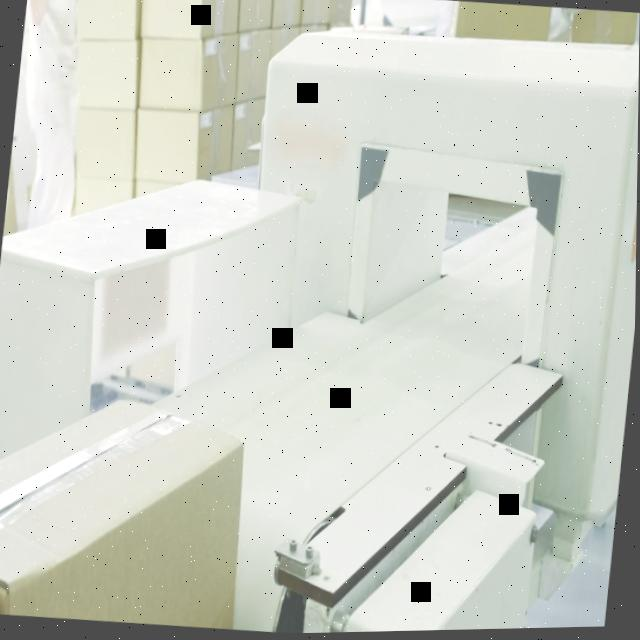box: (0, 384, 256, 634), (0, 572, 3, 614)
